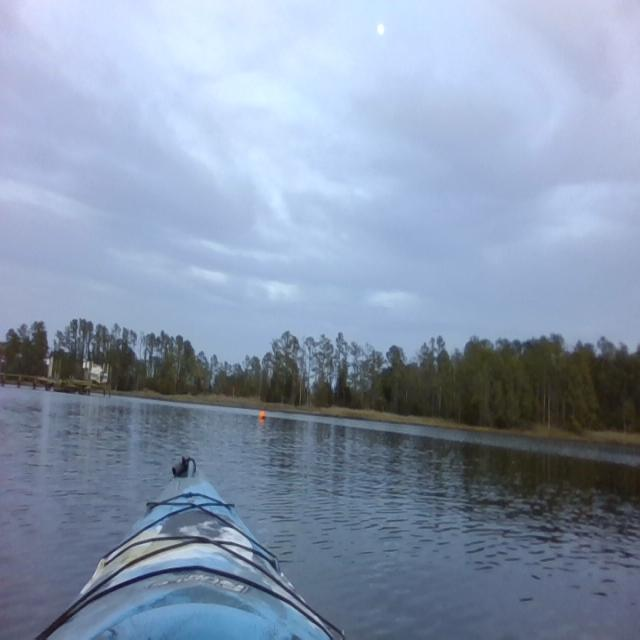Buoy: (258, 408, 267, 423)
